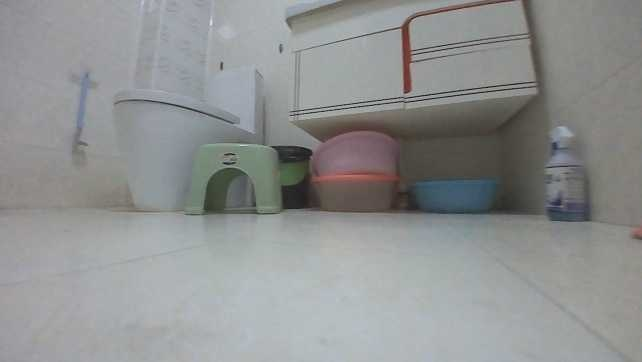plastic_stool: (181, 139, 287, 215)
toilet: (112, 65, 269, 214)
washstand: (280, 0, 540, 146)
